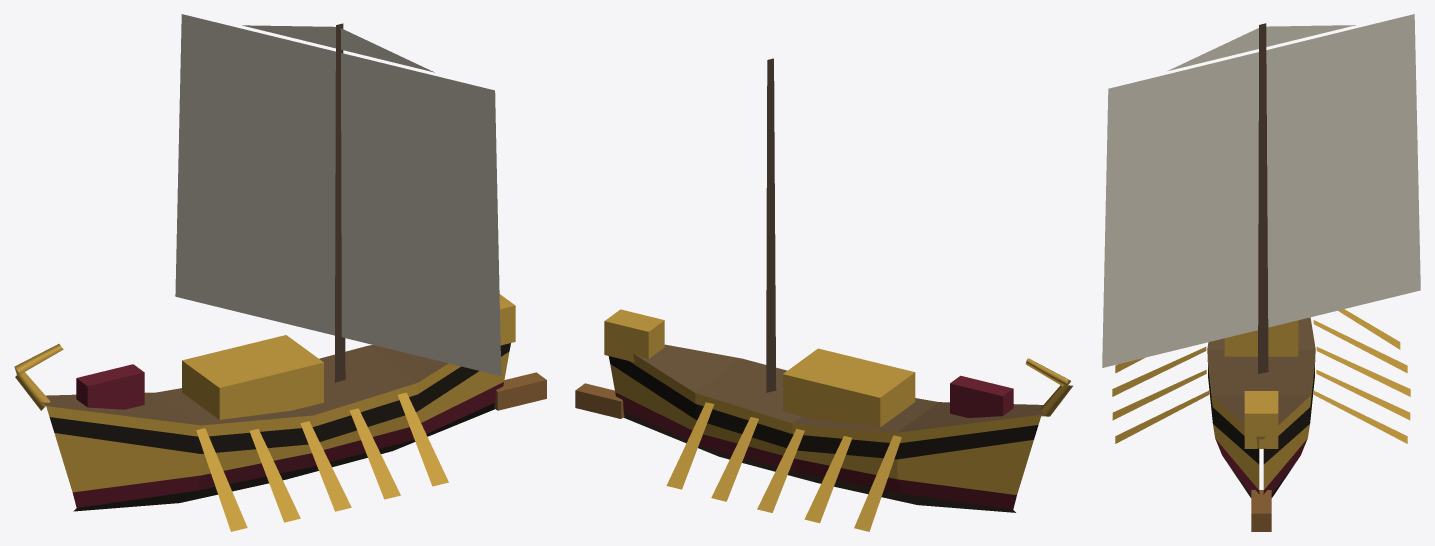
Rendered from titan_xaut_lod.glb.
3 renders of one model, left to right at view 1: azimuth 30°, elevation 25°; view 2: azimuth 150°, elevation 25°; view 3: azimuth 270°, elevation 25°, orthographic. The views are drawn at different scales.
Visible parts, largest first — view 1: lod; view 2: lod; view 3: lod.
Part boxes in pixels (box(x1,y1,x2,y2)): lod: box(14, 14, 546, 531); lod: box(575, 58, 1072, 531); lod: box(1102, 14, 1420, 531).
Bounding box in the file's own units: 24.47 × 19.63 × 13.08.
